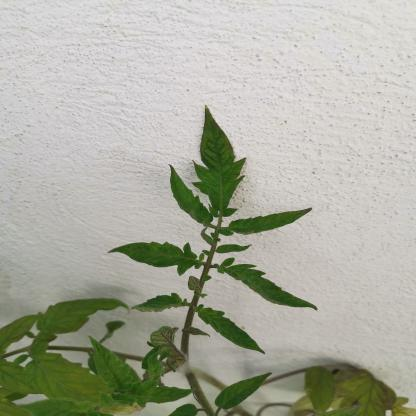T_L_R: (192, 105, 247, 212), (214, 259, 318, 312), (194, 305, 267, 355), (108, 243, 206, 277), (170, 165, 218, 228), (89, 338, 136, 395), (228, 209, 314, 236), (216, 373, 274, 411), (132, 294, 193, 314), (217, 245, 254, 254), (218, 229, 235, 238), (203, 276, 213, 282)
